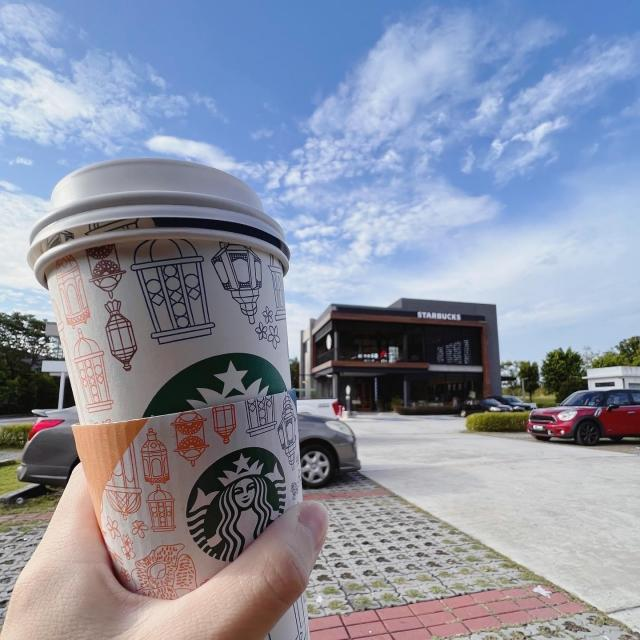cup-disposable: (19, 148, 318, 640)
